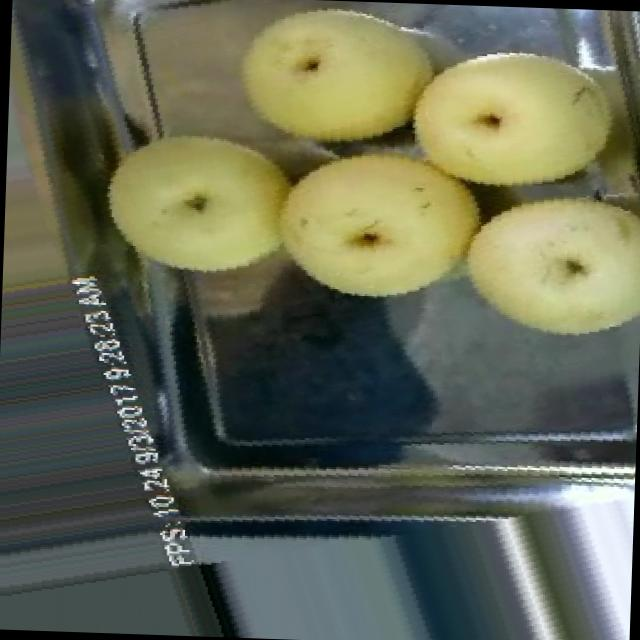Fruit: (378, 6, 640, 223), (188, 0, 457, 192), (78, 100, 324, 304), (264, 120, 498, 314), (450, 181, 640, 351)
